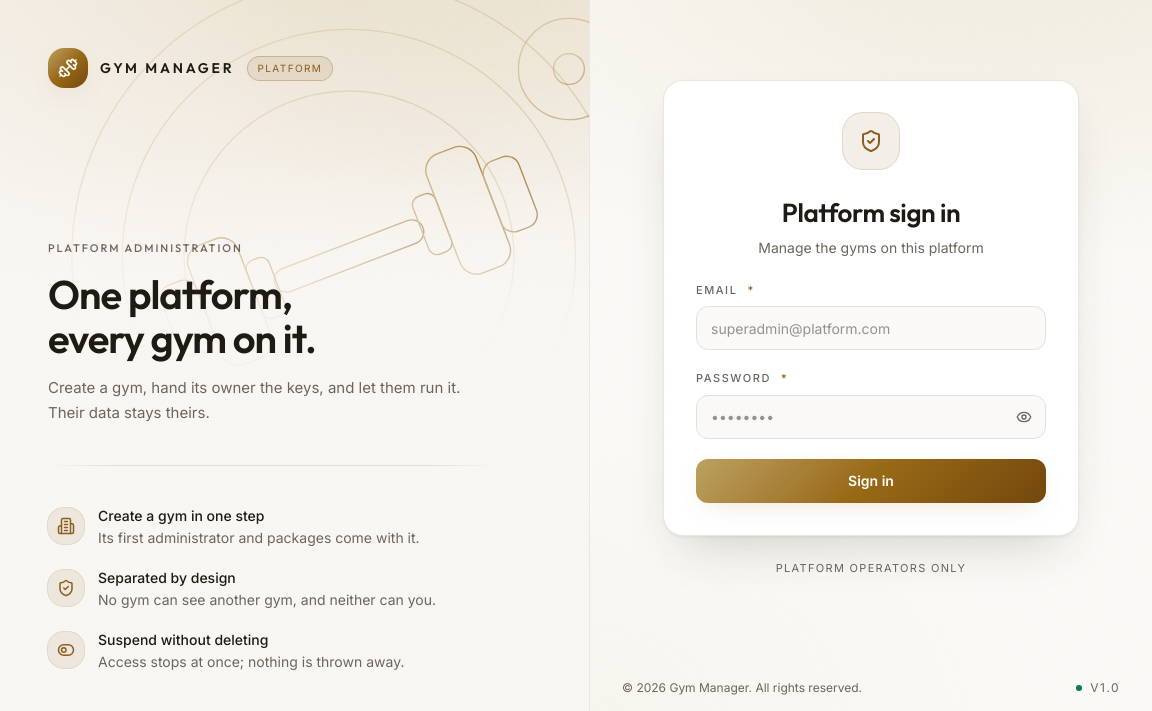
Test: AdminLoginPage › shows the server’s message when a gym account tries this door
Type "admin@gym.com" into the field labelled "Email *" at (871, 328), box 696,306 -> 1046,350
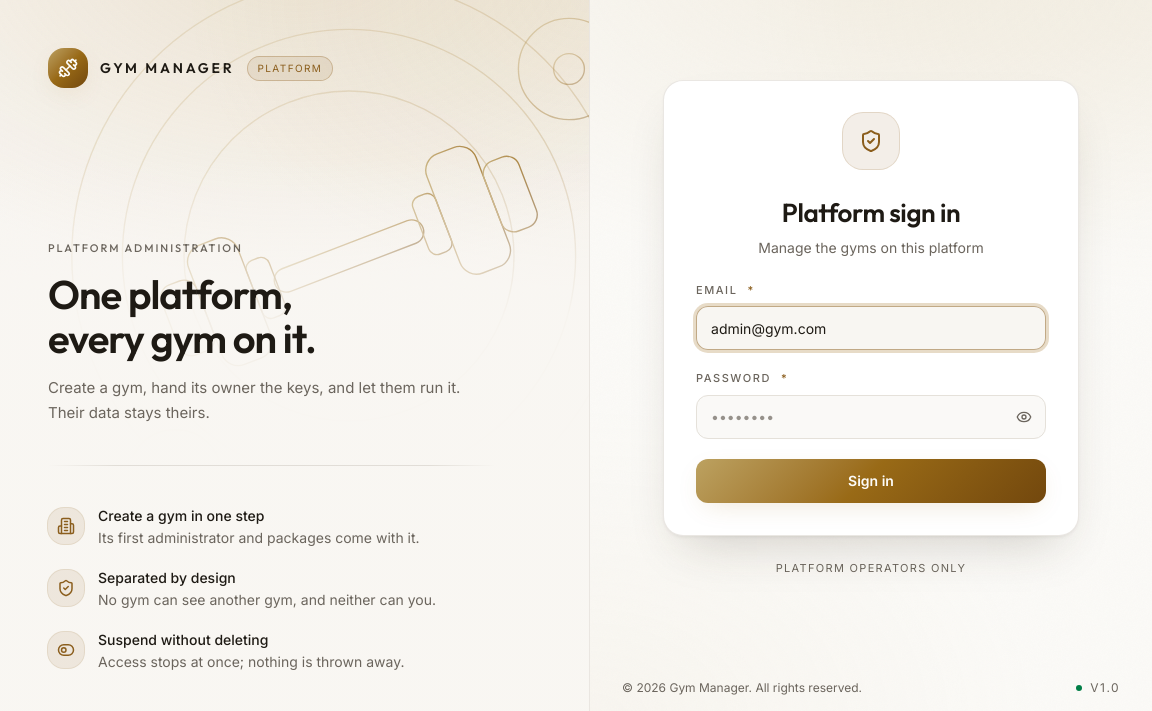
Type "Admin@123" into the password field labelled "Password *" at (871, 417), box 696,395 -> 1046,439
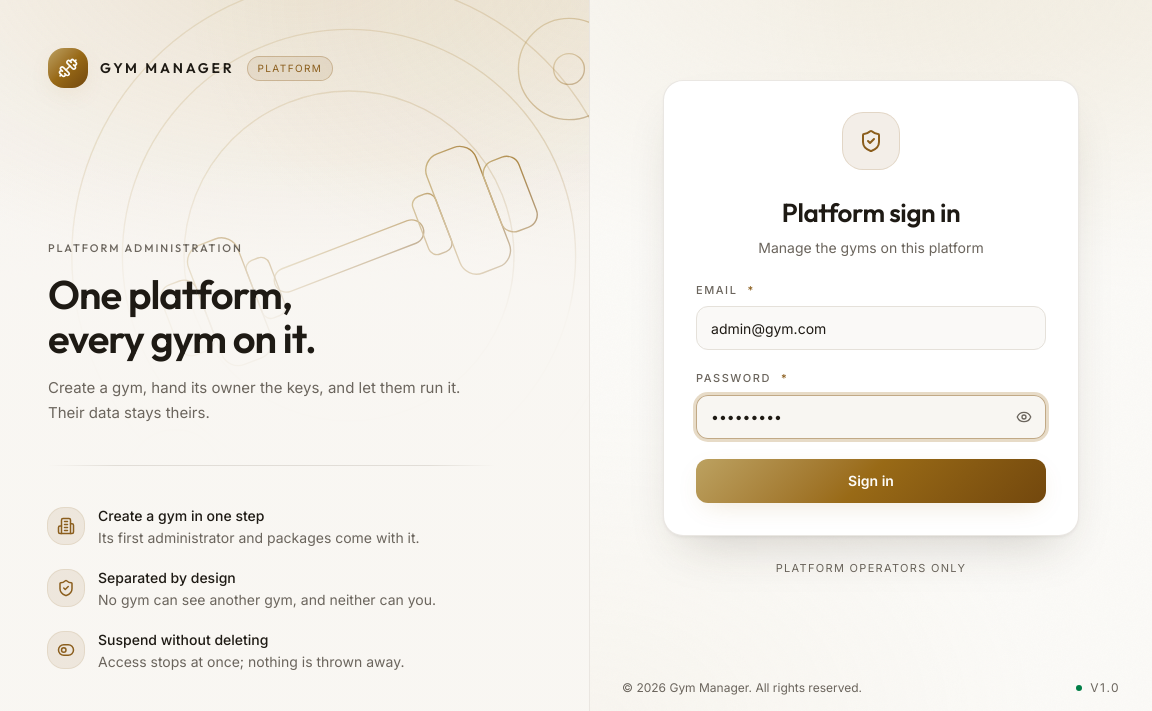
Click the button "Sign in" at (871, 481), box 696,459 -> 1046,503
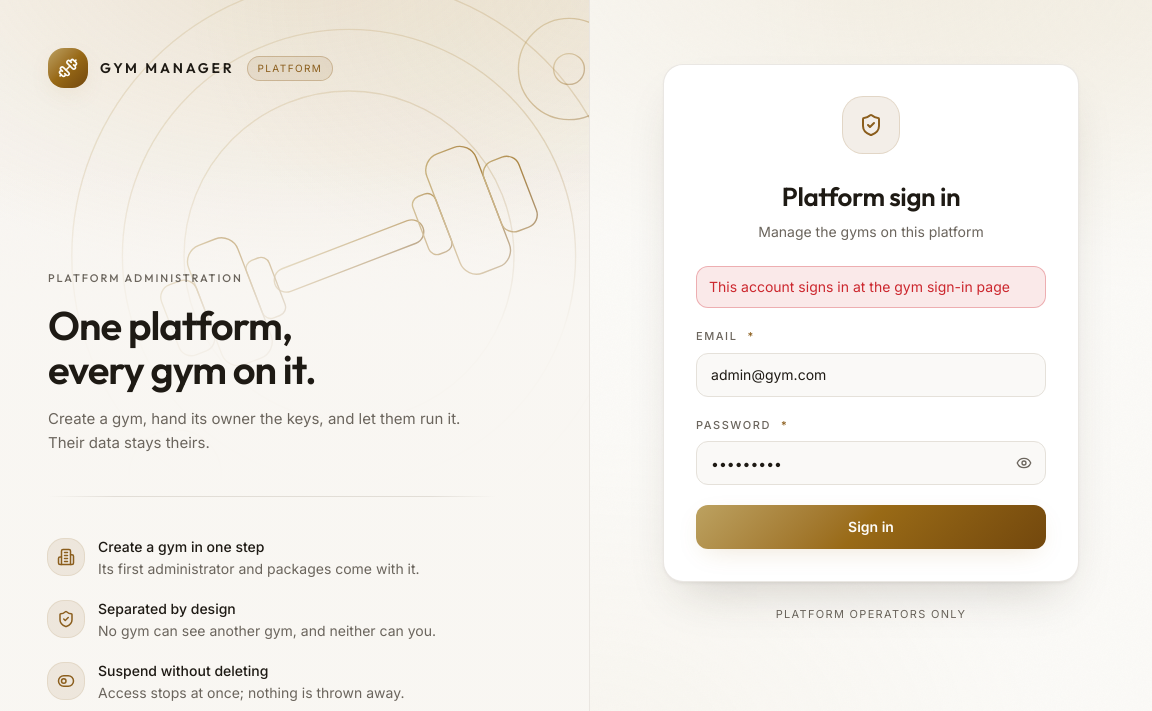
expect the message shows "gym sign-in page": met, box 709,278 -> 1010,295
